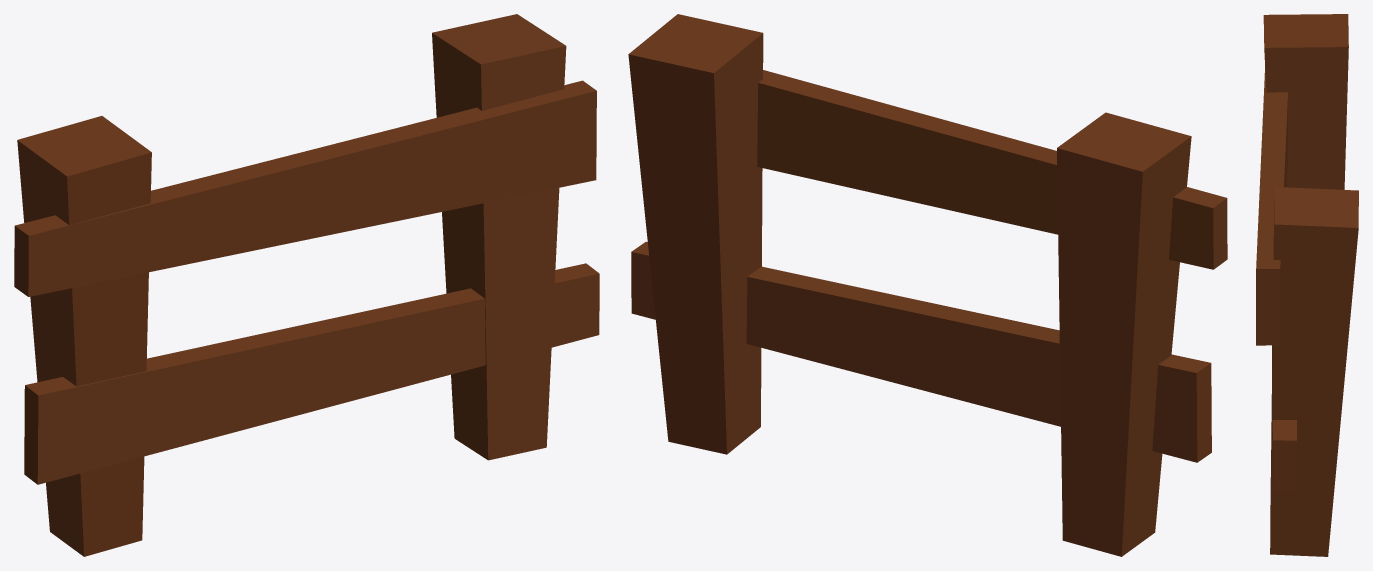
File: plot.fbx
The picture shows the model from 3 angles, left to right: view 1: azimuth 30°, elevation 25°; view 2: azimuth 150°, elevation 25°; view 3: azimuth 270°, elevation 25°; orthographic projection. The views are drawn at different scales.
Parts seen in each view (by area): view 1: Cube.001; view 2: Cube.001; view 3: Cube.001.
Boxes of the visible parts, x1,y1,x2,y2 form: Cube.001: (14,14,599,556); Cube.001: (628,14,1227,556); Cube.001: (1256,14,1358,556).
Size of the model in its own units: 50.72 by 282 by 187.
